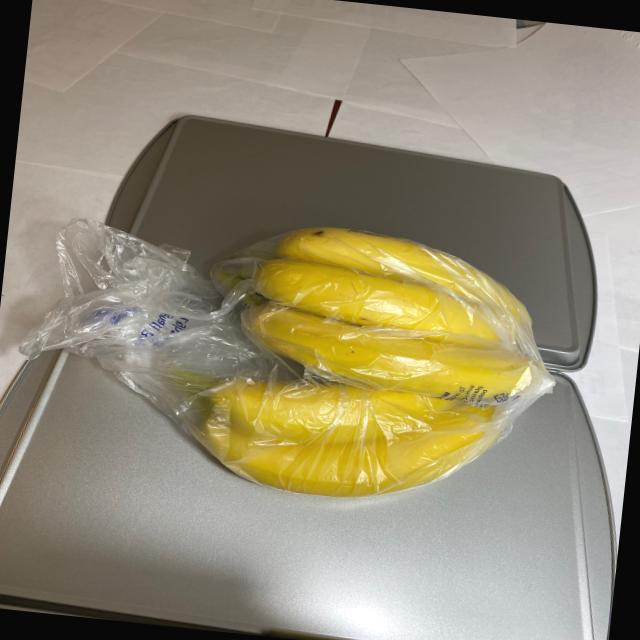banana: (167, 207, 560, 521)
